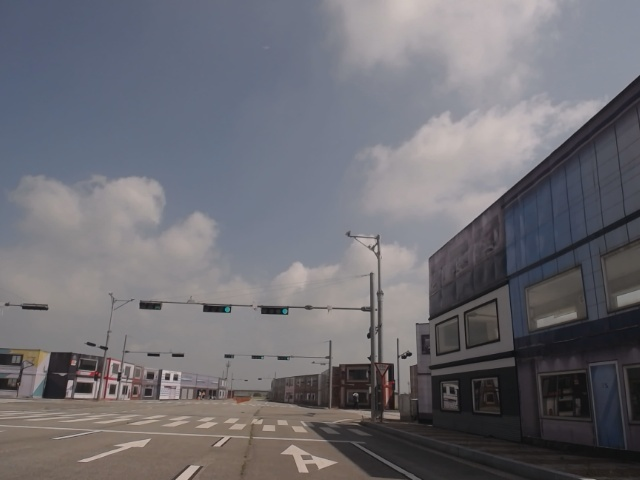straight_green_4: (204, 304, 232, 314), (260, 307, 288, 314)
